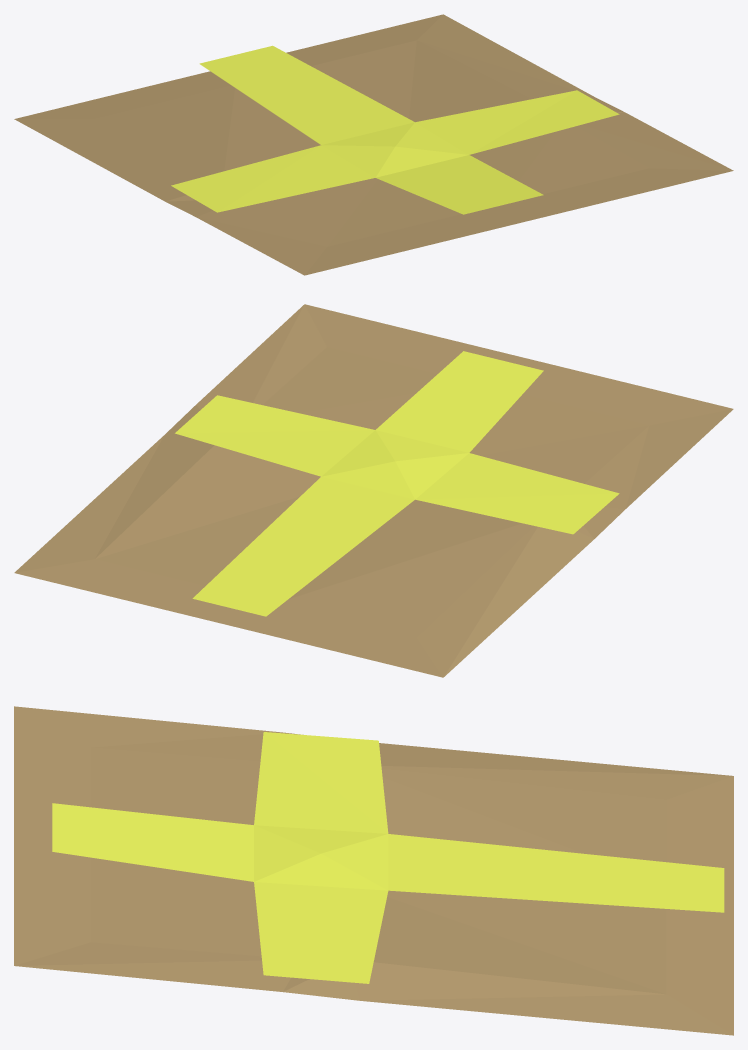
The model's file is inv_holy_force.obj.
3 views of the same model, one above another, from view 1: azimuth 30°, elevation 25°; view 2: azimuth 150°, elevation 25°; view 3: azimuth 270°, elevation 25° (orthographic). The views are drawn at different scales.
Size of the model in its own units: 0.5 by 0.0703 by 0.5859.
